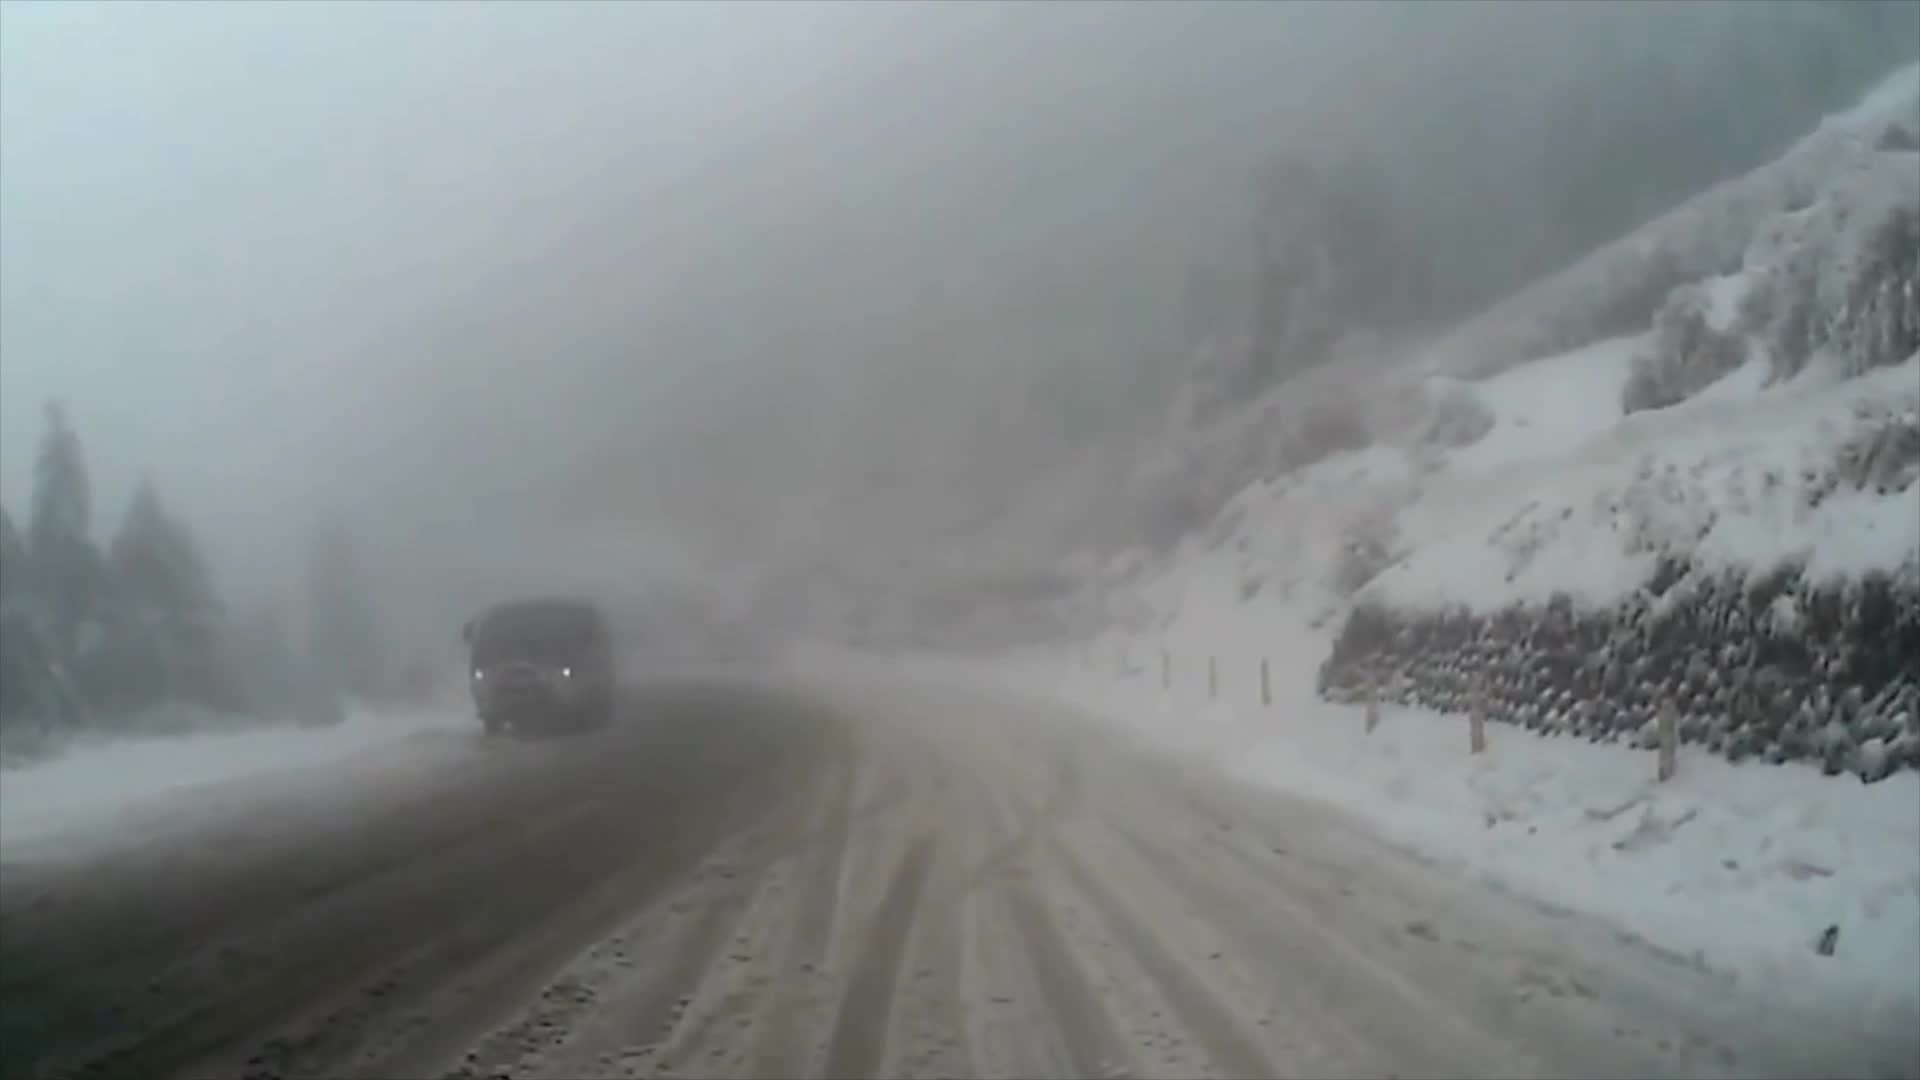vehicle: (456, 600, 611, 736)
